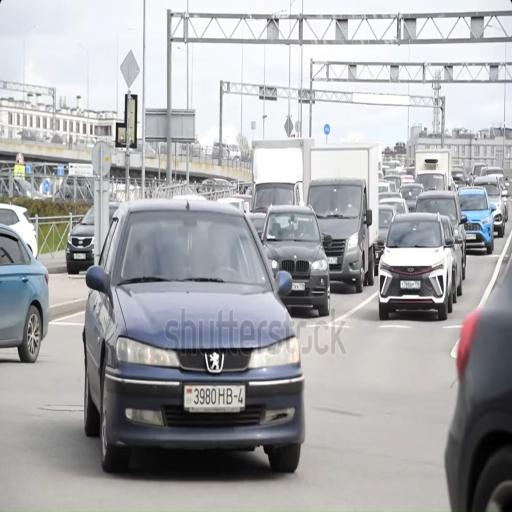License plates: (184, 385, 245, 412), (401, 281, 420, 289), (292, 282, 305, 291), (73, 252, 86, 260), (328, 257, 337, 265), (467, 234, 476, 239), (375, 253, 379, 260)
